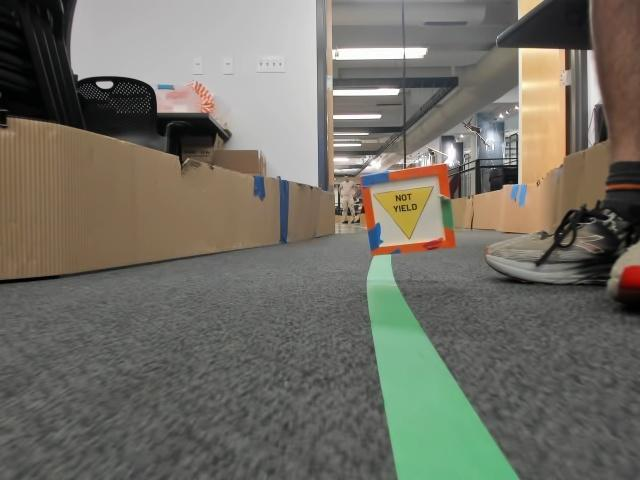Do Not Yield: (373, 193, 432, 243)
